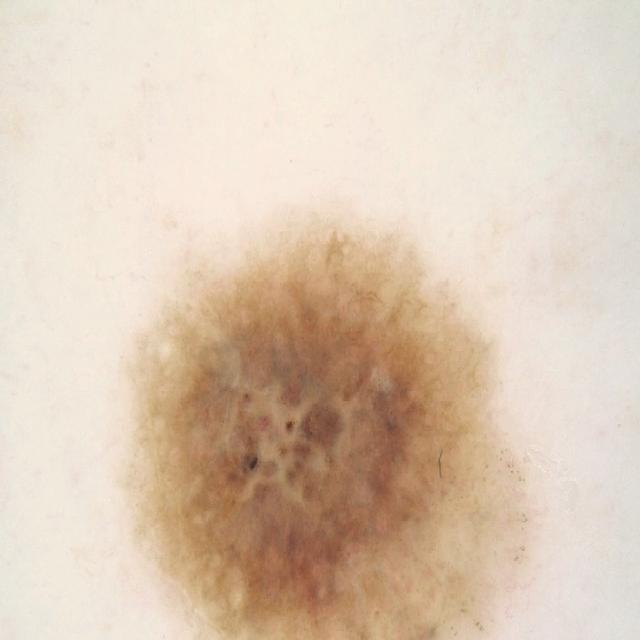Melanoma: (82, 189, 611, 640)
